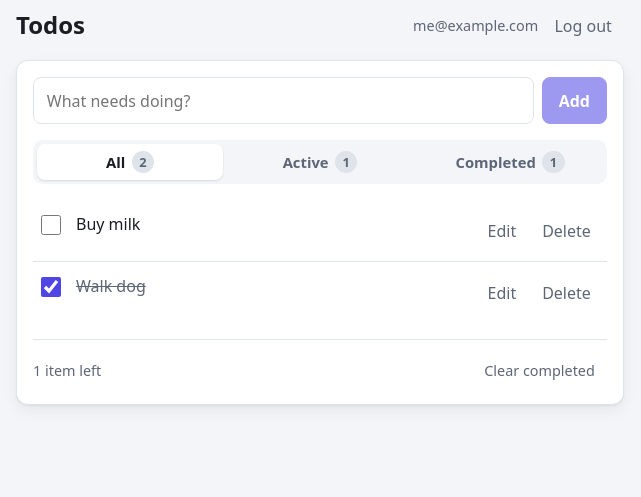
Scenario: TodosPage › puts the text back if adding fails, unless something new was typed
Expected: the text "Buy milk" is shown, top-left (76, 213), bottom-right (140, 235)
Type "Important thing" into the field named "New todo". click: (283,101)
box: top-left (33, 77), bottom-right (534, 124)
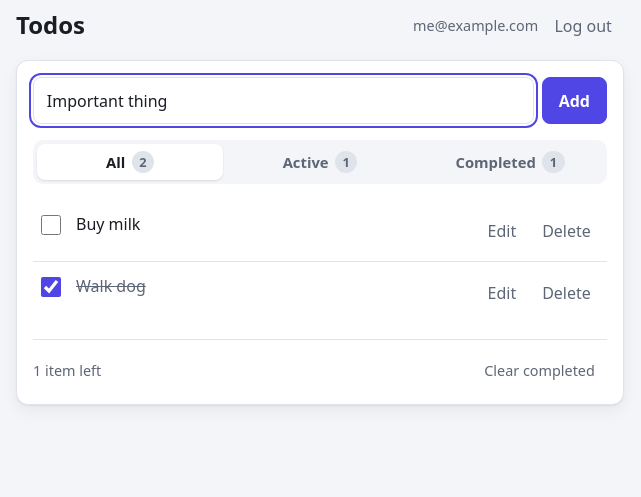
Click the button "Add". click: (574,101)
box: top-left (542, 77), bottom-right (607, 124)
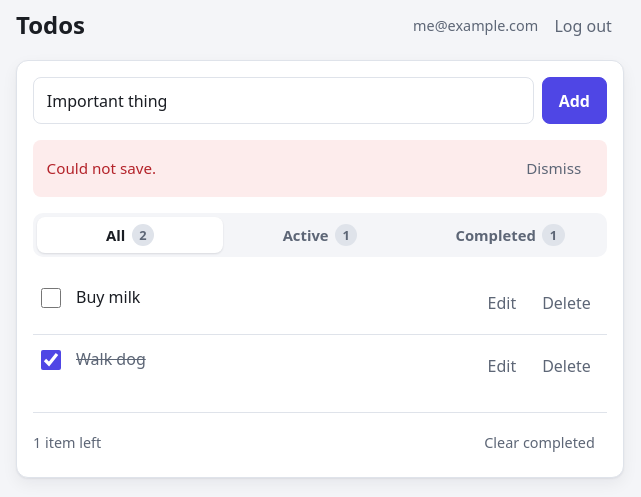
Result: the message shows "Could not save." at top-left (47, 158), bottom-right (156, 178)
